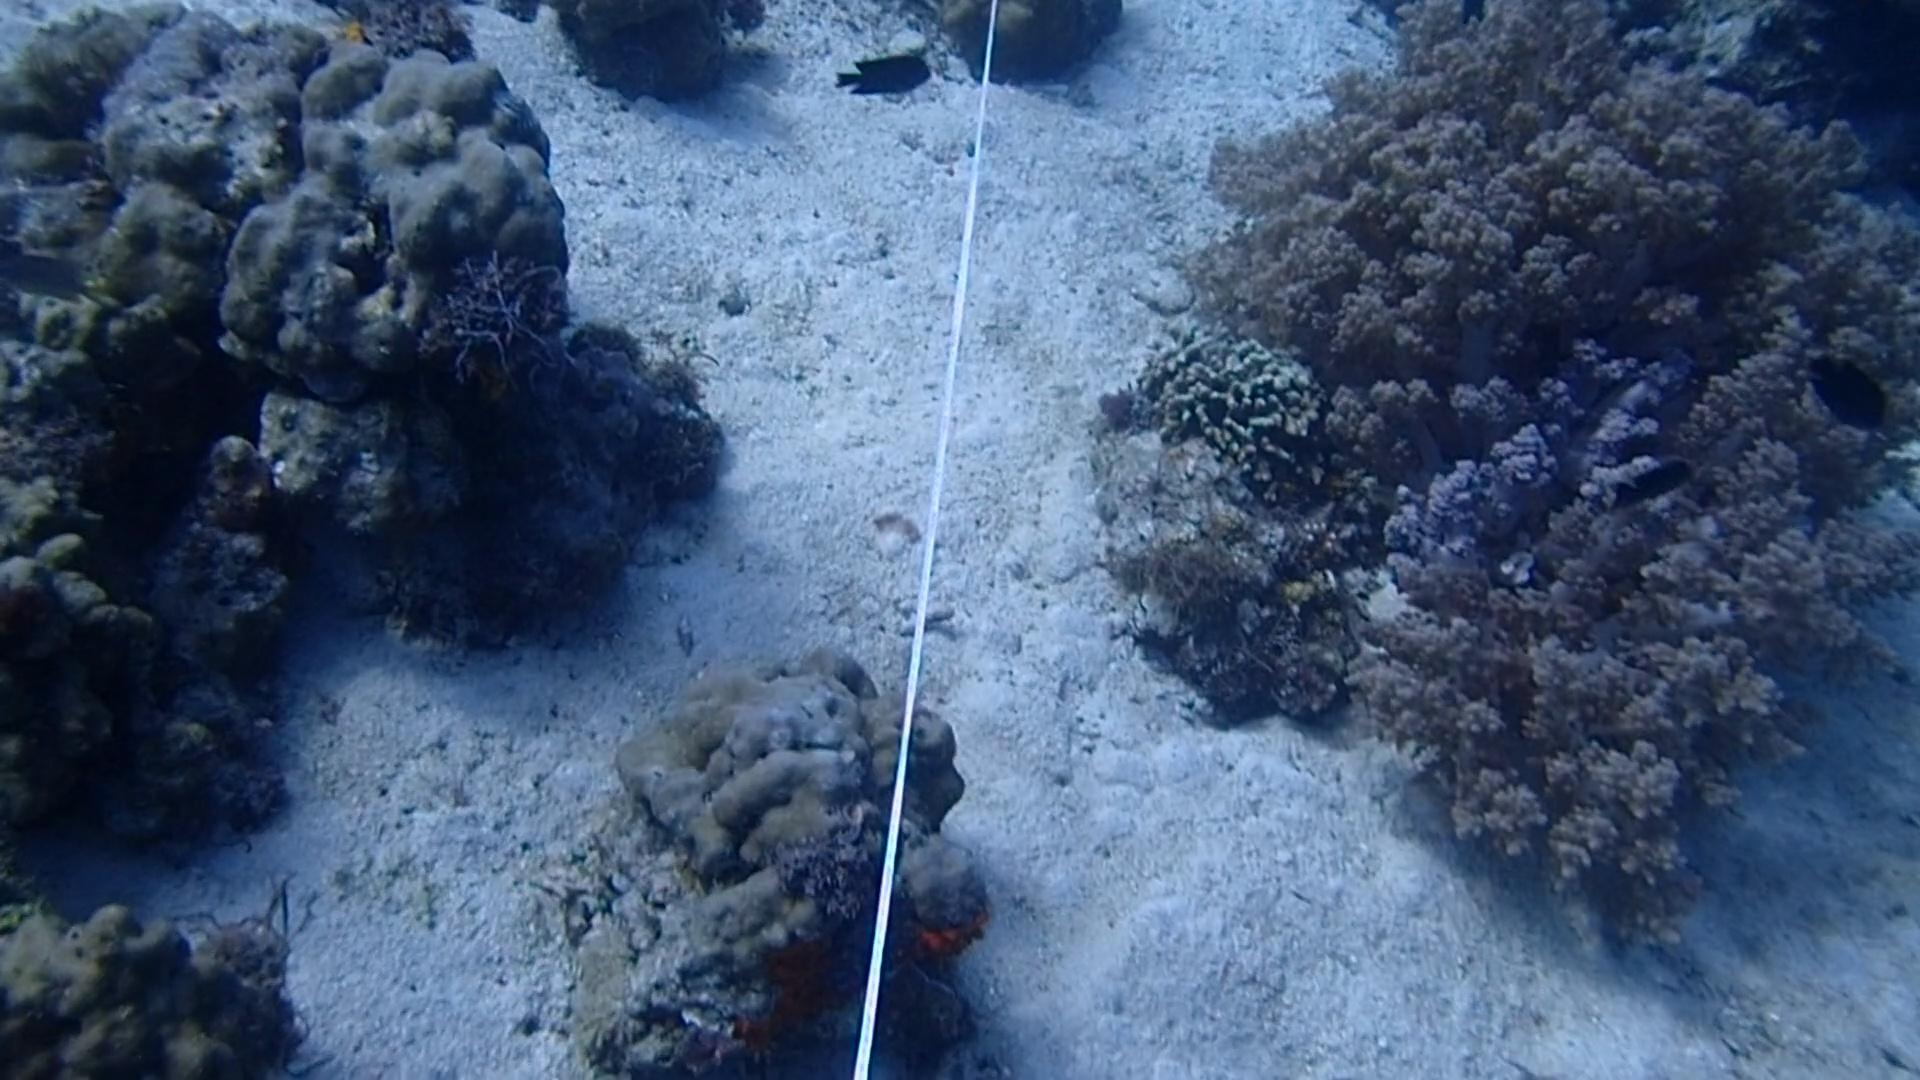Dark Fish: (1792, 342, 1884, 446), (1585, 447, 1704, 520), (825, 37, 943, 105)
